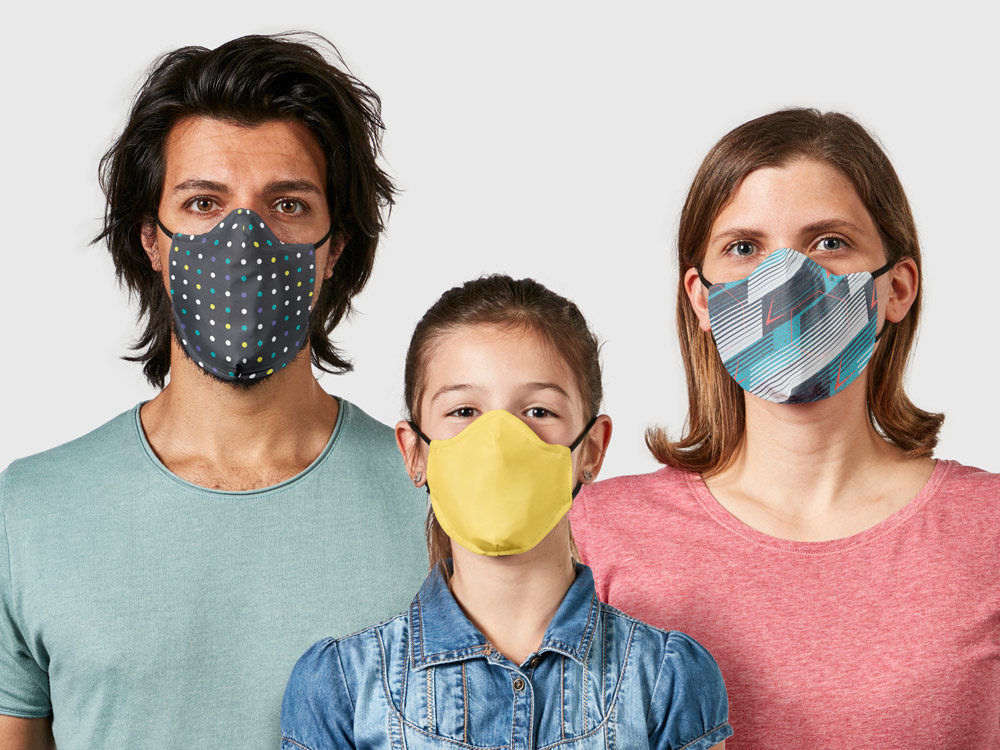with_mask: (153, 127, 341, 393), (709, 172, 894, 417), (421, 324, 590, 570)
